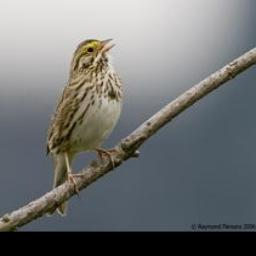Sparrow: (44, 34, 121, 219)
